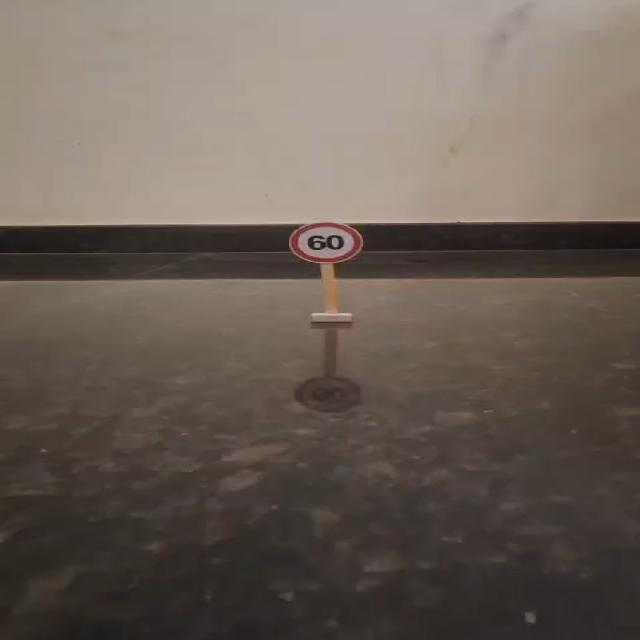Speed60: (288, 220, 366, 264)
